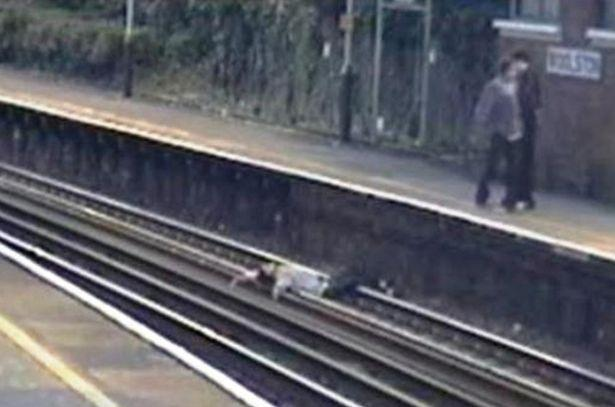person: (225, 243, 398, 326), (475, 48, 521, 231), (500, 46, 543, 218)
